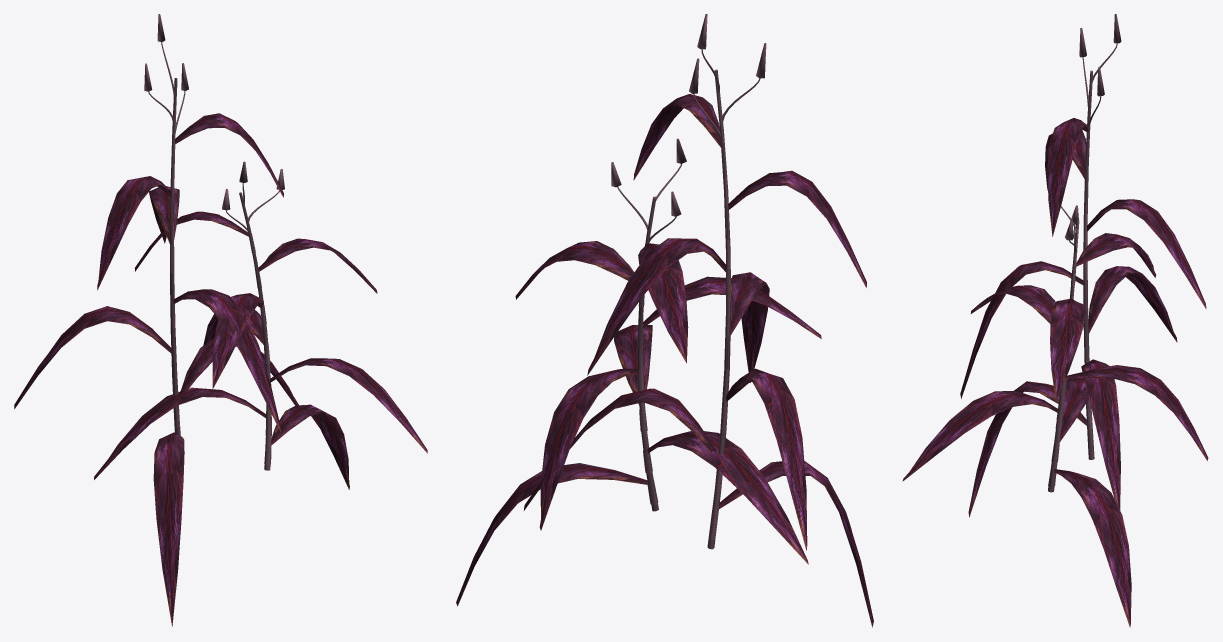
Rendered from finegrass_09.glb.
The picture shows the model from 3 angles, left to right: view 1: azimuth 30°, elevation 25°; view 2: azimuth 150°, elevation 25°; view 3: azimuth 270°, elevation 25°; orthographic projection. The views are drawn at different scales.
Visible parts, largest first — view 1: export; view 2: export; view 3: export.
Part boxes in pixels (<box>): export: <box>14,14,427,626</box>; export: <box>456,14,873,627</box>; export: <box>902,14,1208,627</box>.
Size of the model in its own units: 0.9371 by 1.56 by 0.8114.
Materials: 2 (2 with a texture image).
